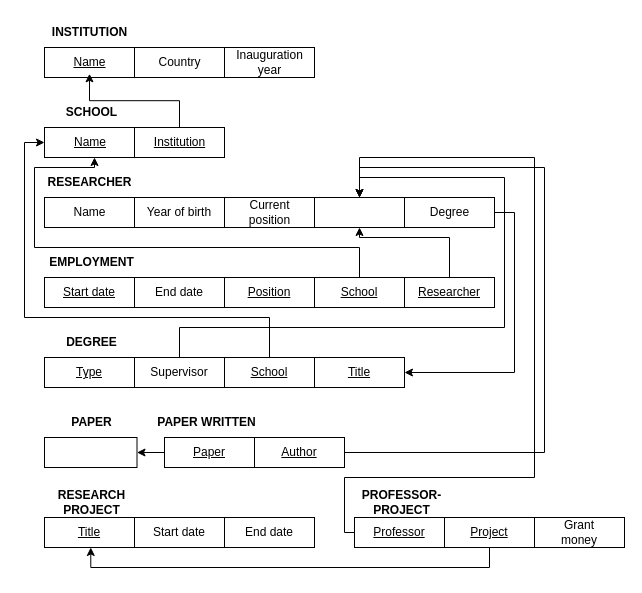
Image size: 642x593. Some labels were removed from this diagram. The centre of each missing label's shape, as x and y in pixels:
ID: the point at 359,212
Paper title: the point at 90,452
